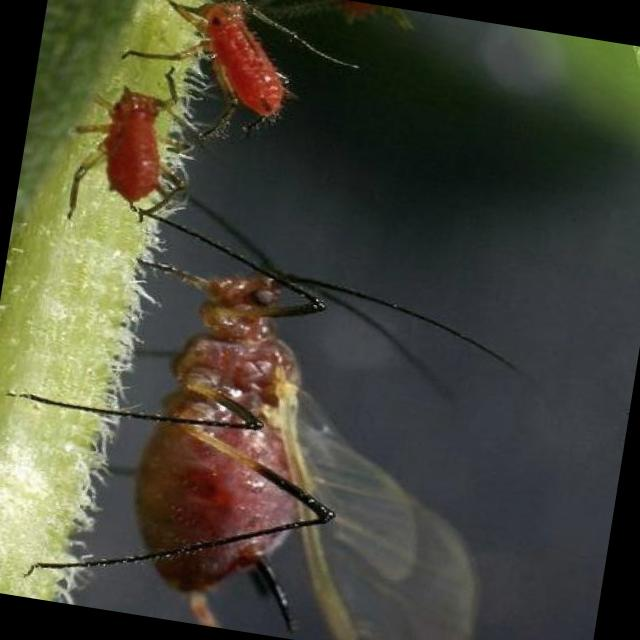aphid: (101, 256, 376, 630), (64, 76, 190, 227), (159, 0, 304, 126)
